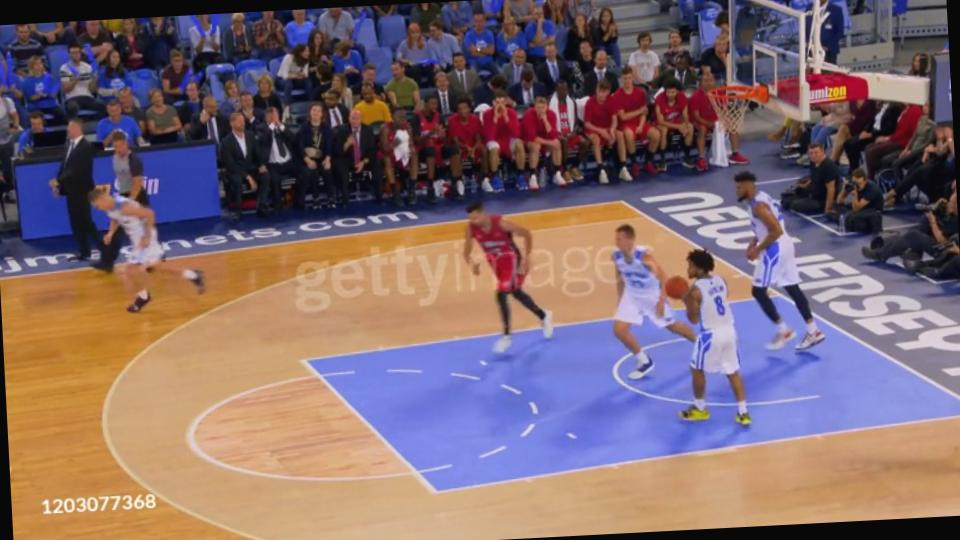hoop: (708, 80, 766, 105)
